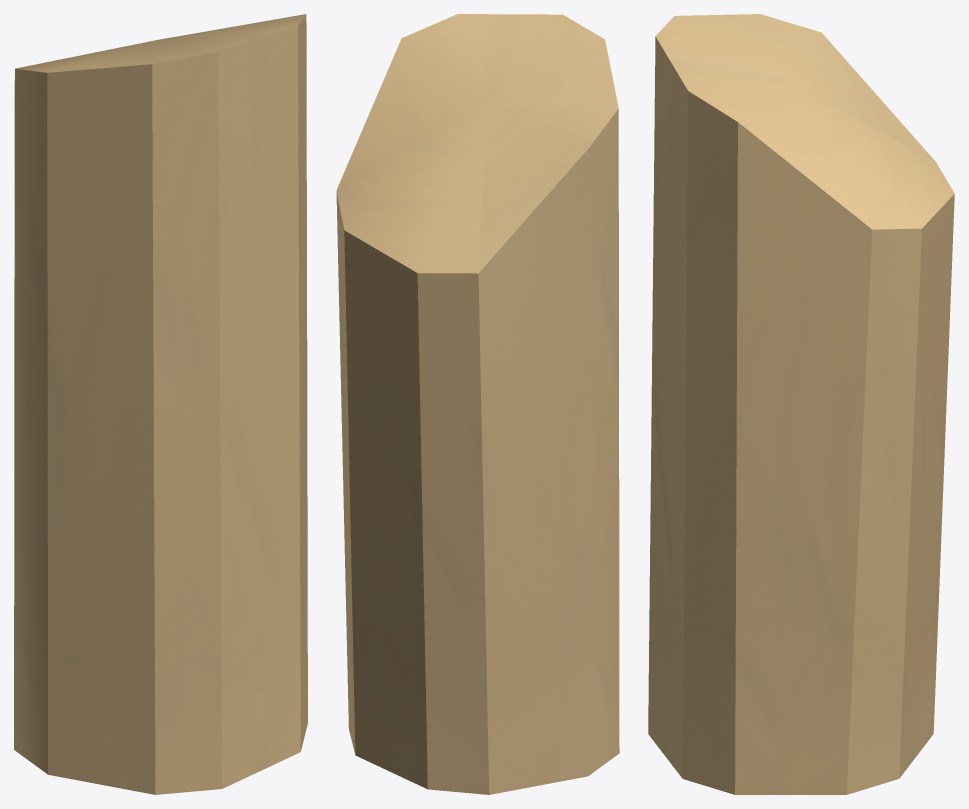
The model's file is ColumnE.FBX.
3 renders of one model, left to right at view 1: azimuth 30°, elevation 25°; view 2: azimuth 150°, elevation 25°; view 3: azimuth 270°, elevation 25°, orthographic. The views are drawn at different scales.
Visible parts, largest first — view 1: ColumnE; view 2: ColumnE; view 3: ColumnE.
Part boxes in pixels (x1,y1,x2,y2): ColumnE: (14,14,307,794); ColumnE: (336,14,619,794); ColumnE: (648,14,954,794).
Size of the model in its own units: 7.87 by 8.89 by 22.31.
1 material, 1 textured.
